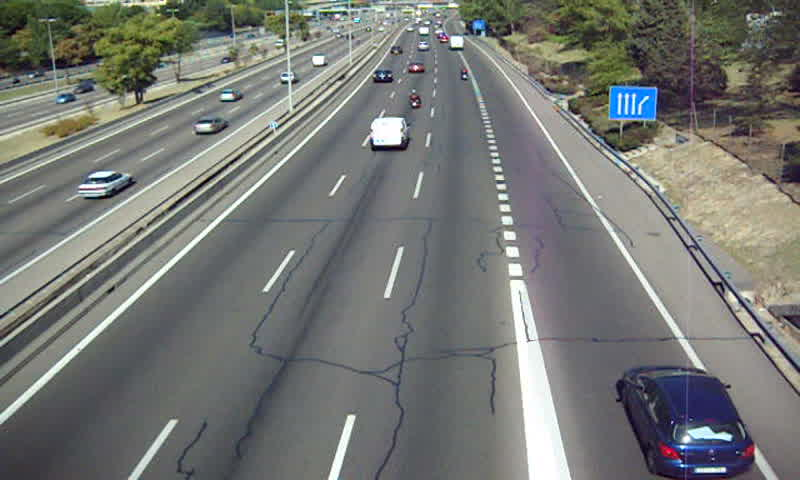car: (619, 362, 755, 478), (371, 68, 394, 83), (406, 62, 424, 76)
motorcycle: (406, 89, 421, 111), (460, 66, 470, 84)
van: (371, 117, 408, 150), (450, 34, 464, 51)
